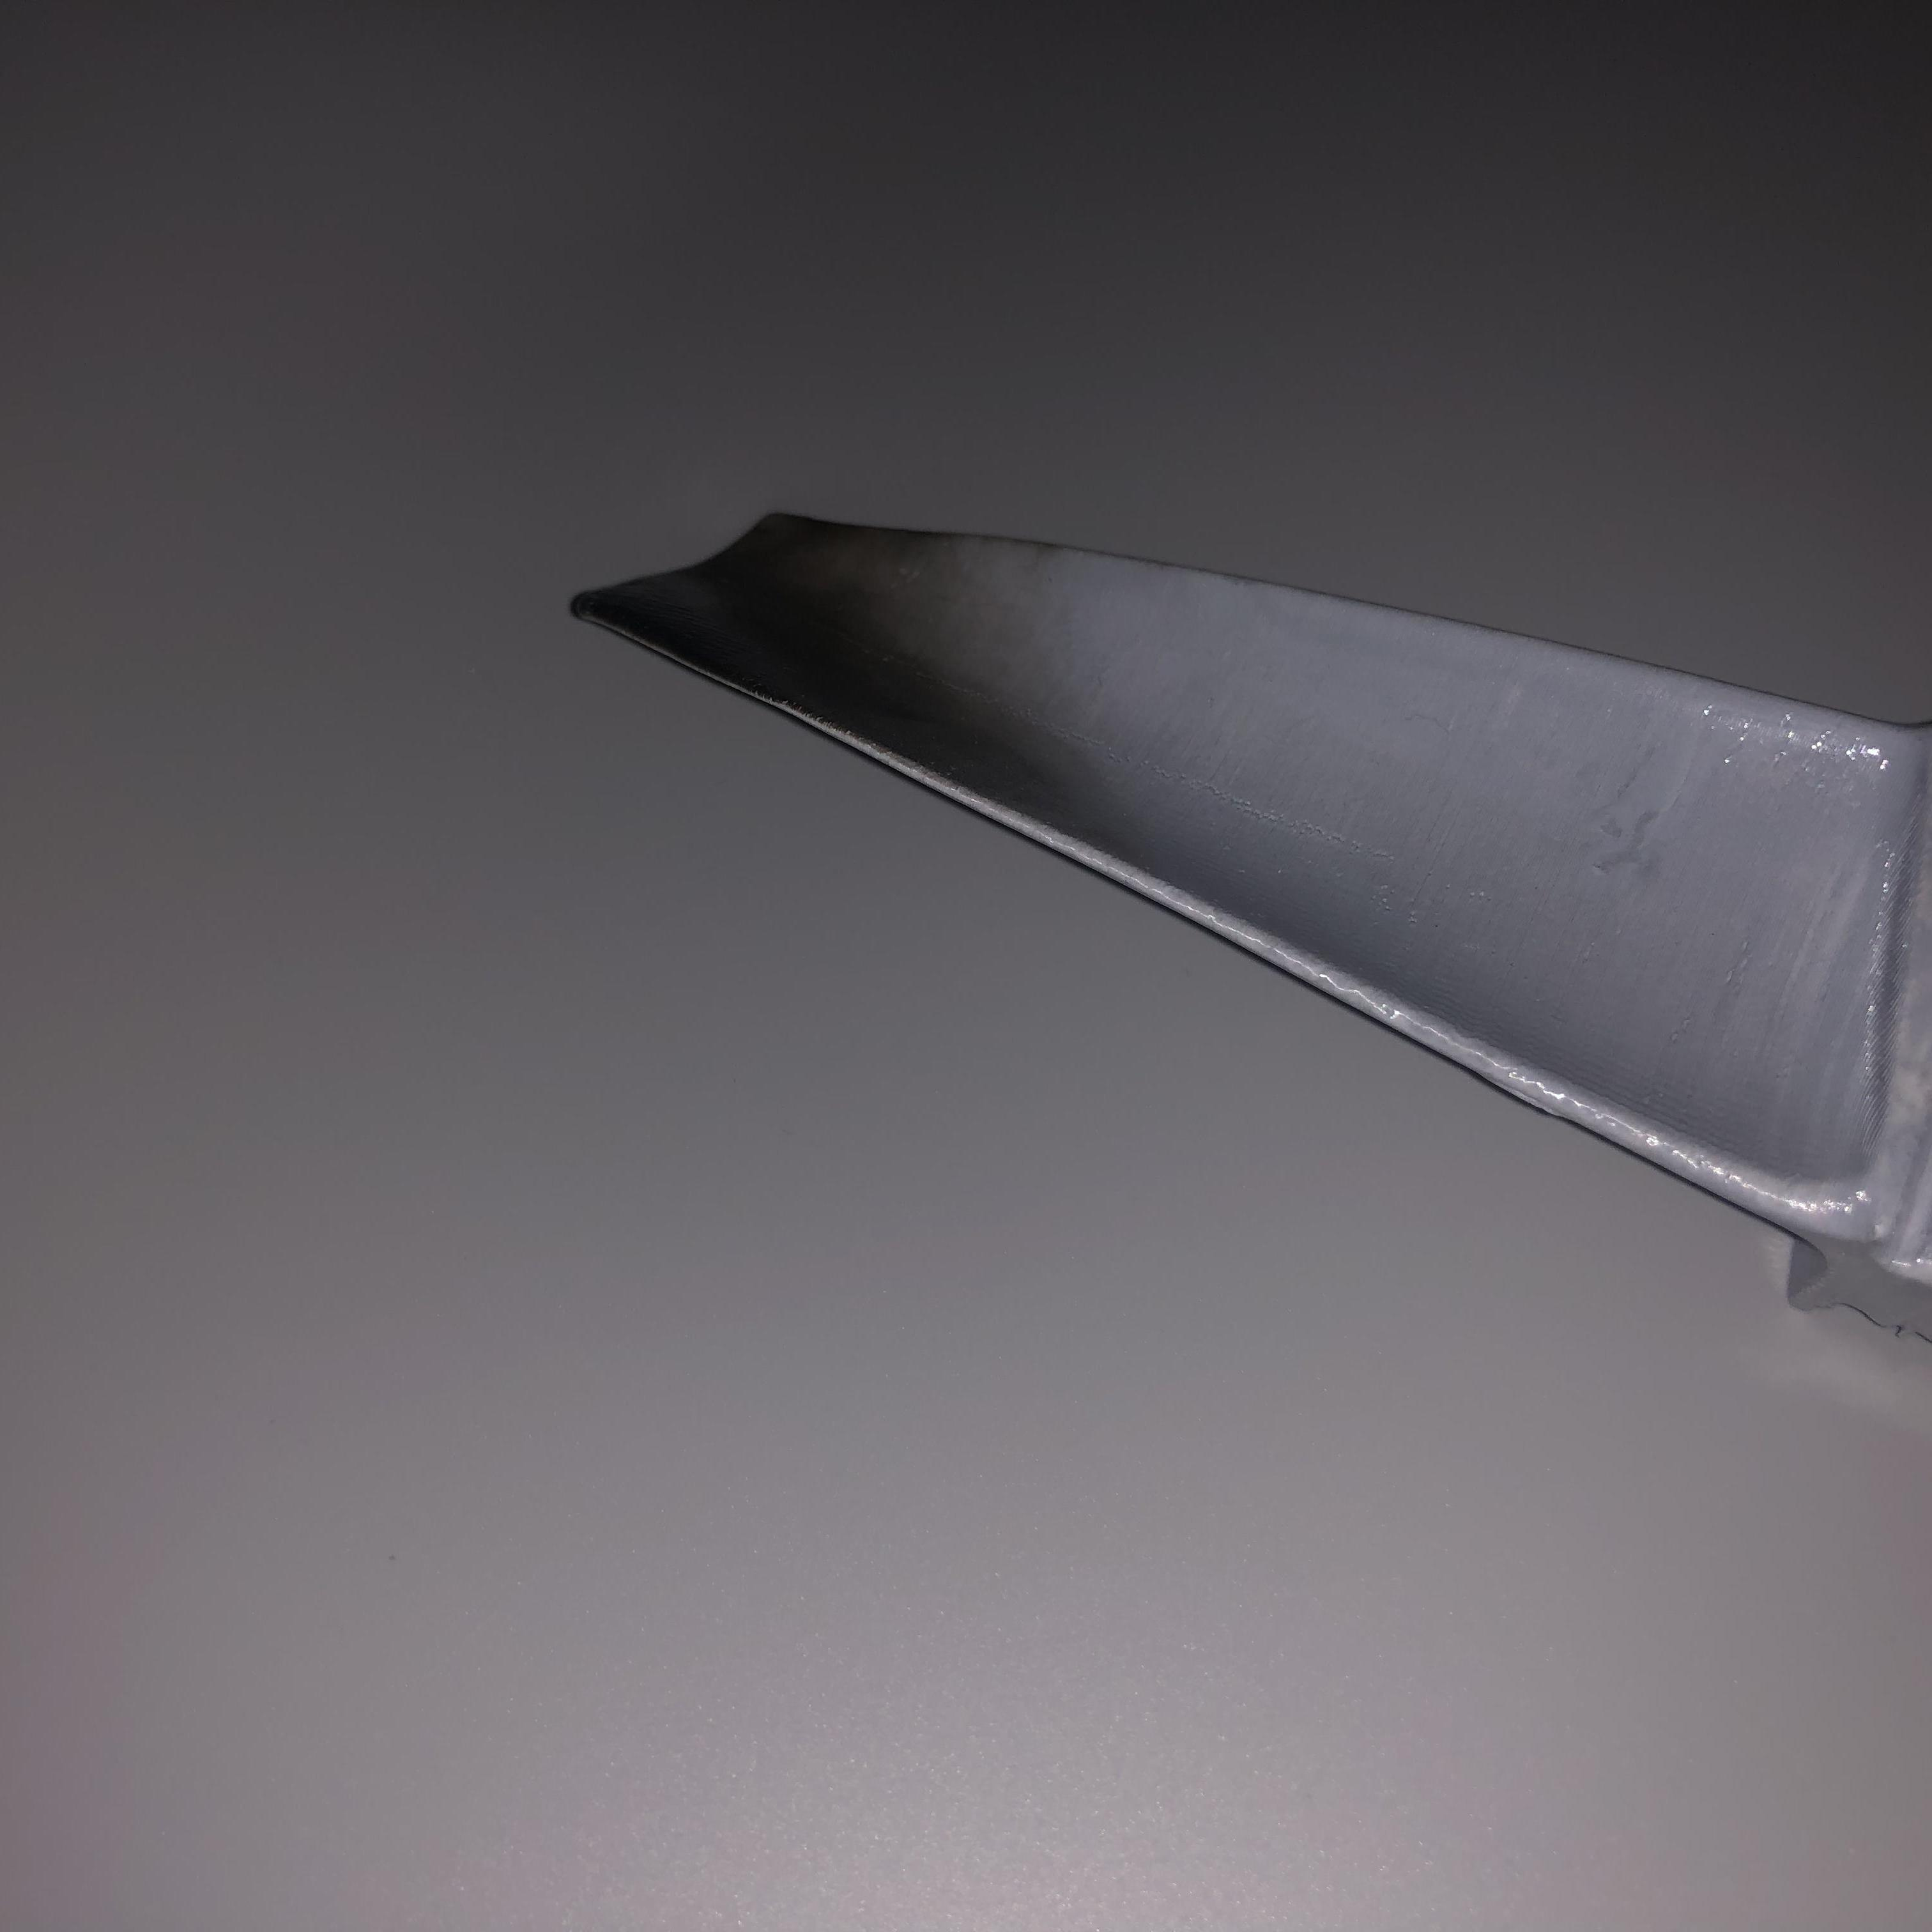ablation: (603, 522, 1085, 807)
